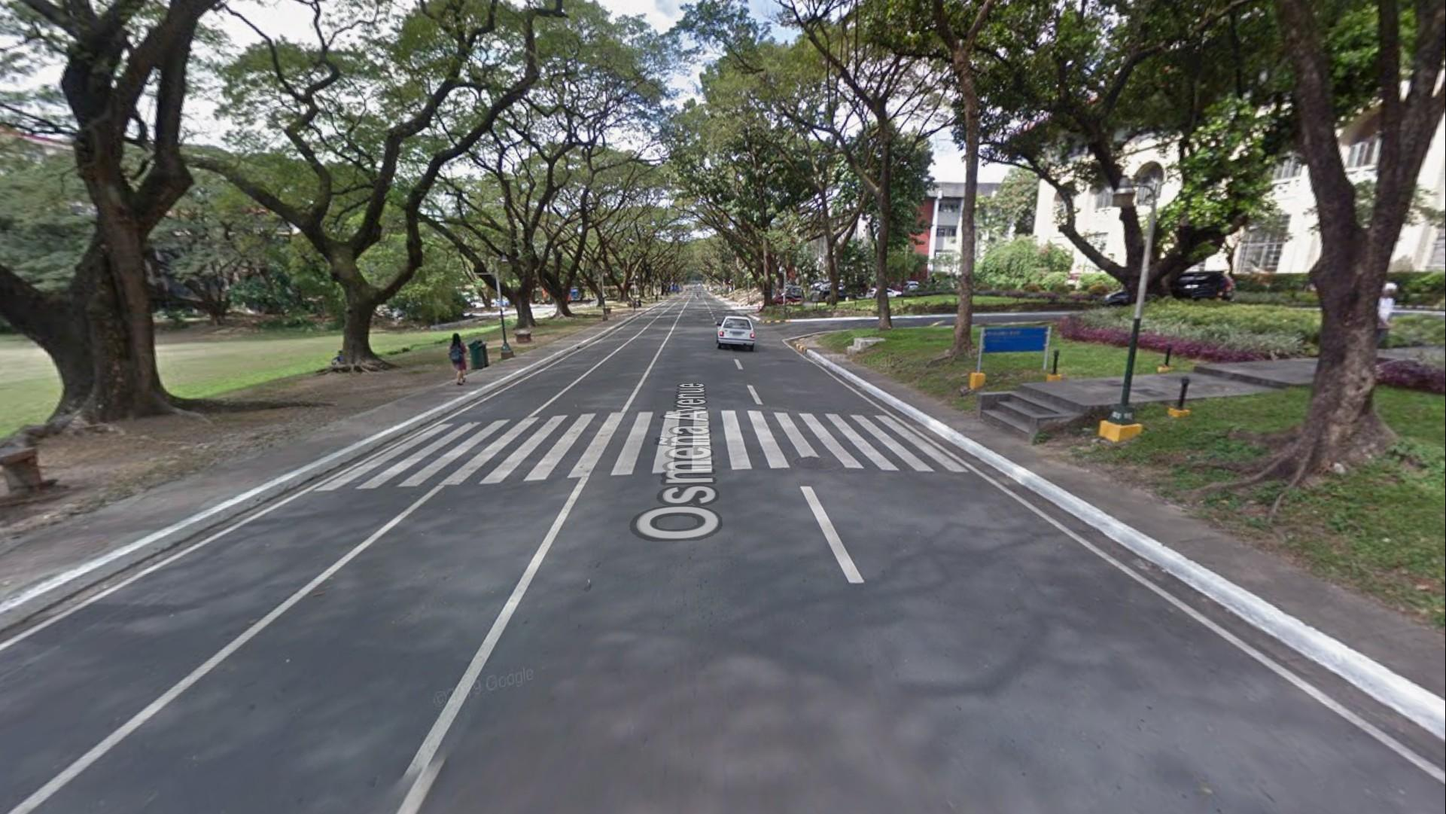pedestrian: (448, 332, 468, 387), (632, 297, 637, 313), (655, 293, 658, 302), (696, 292, 699, 299)
